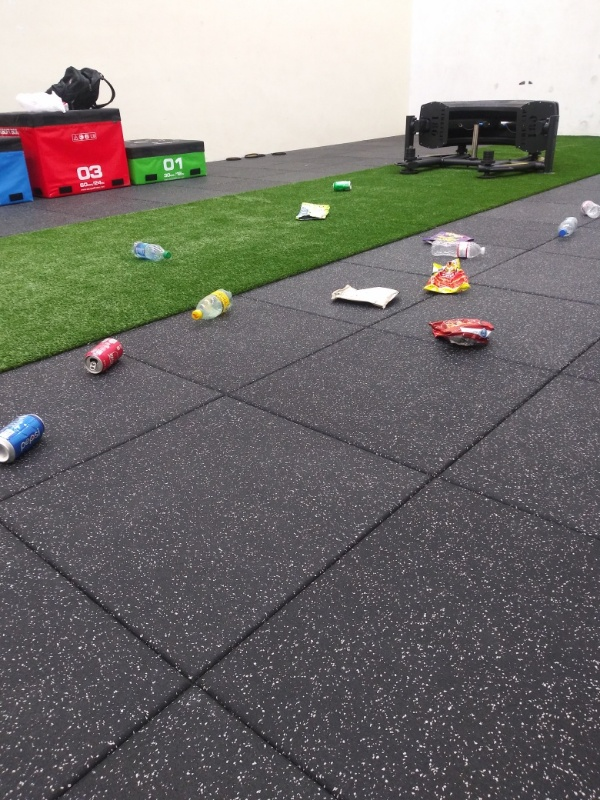bag: (423, 315, 500, 354), (325, 279, 403, 310), (419, 257, 476, 297), (291, 197, 335, 223), (421, 228, 473, 244)
bottle: (187, 285, 240, 325), (424, 239, 491, 261), (129, 239, 173, 265), (552, 216, 581, 244), (574, 197, 600, 222)
can: (1, 406, 51, 471), (79, 332, 126, 378), (326, 178, 355, 194)
